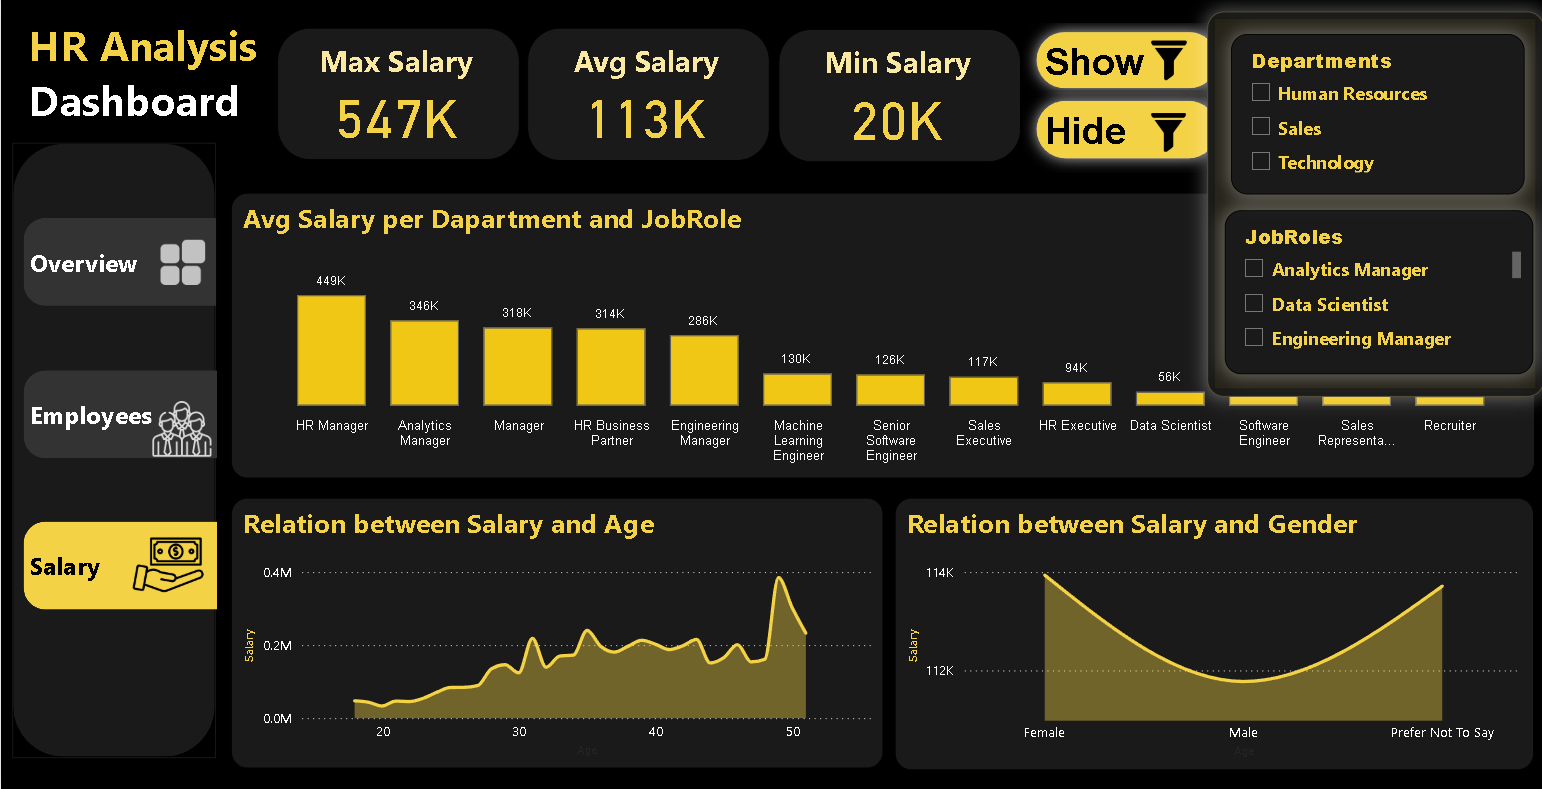

The page's visual inventory and layout, read from the dashboard file:
{"tool":"powerbi","page":{"name":"Salary","canvas":[1400,720],"ordinal":2},"visuals":[{"type":"card","title":"Max Salary","fields":{"Values":["Max(Employee.Salary)"]},"box":[250.4,26.4,219.8,119.7],"z":0},{"type":"textbox","box":[20.6,11,286.8,119.4],"z":1000},{"type":"columnChart","title":"Avg Salary per Dapartment and JobRole","fields":{"Category":["Employee.Department","Employee.JobRole"],"Y":["Avg(Employee.Salary)"]},"box":[208.4,176,1182.9,259.1],"z":2000},{"type":"shape","box":[10,130,185,558.3],"z":3000},{"type":"shape","title":"Overvie","box":[20,198.3,175,80],"z":4000},{"type":"shape","title":"Overvie","box":[20,336.3,175.7,80],"z":5000},{"type":"shape","title":"Overvie","box":[20,474.3,175.7,80],"z":6000},{"type":"image","box":[121.3,358,86,63.3],"z":7000},{"type":"lineChart","title":"Relation between Salary and Age","fields":{"Y":["Avg(Employee.Salary)"],"Category":["Employee.Age"]},"box":[209.1,452.1,592,245.7],"z":8000},{"type":"image","box":[133.7,210.5,61.6,55.8],"z":9000},{"type":"image","box":[109.3,473.3,84.9,81.4],"z":10000},{"type":"shape","box":[926.2,17.1,190,77],"z":13000},{"type":"image","box":[1024.3,33.3,70.8,45.9],"z":14000},{"type":"shape","box":[926.2,79.2,190,78.2],"z":15000},{"type":"image","box":[1024.3,99.1,70.8,44.7],"z":16000},{"type":"card","title":"Min Salary","fields":{"Values":["Min(Employee.Salary)"]},"box":[705.1,27.3,219.7,120.4],"z":17000},{"type":"card","title":"Avg Salary","fields":{"Values":["Avg(Employee.Salary)"]},"box":[477.8,26.1,219.7,120.4],"z":18000},{"type":"lineChart","title":"Relation between Salary and Gender","fields":{"Y":["Avg(Employee.Salary)"],"Category":["Employee.Gender"]},"box":[810.5,452.1,579.7,247.1],"z":19000}]}

Visuals, with their boxes in screenshot pixels (x1, y1, x2, y2), scaled from the page's 1400x720 canvas onto the 1542x789 screenshot:
"Max Salary" card: {"left": 276, "top": 29, "right": 518, "bottom": 160}
textbox: {"left": 23, "top": 12, "right": 339, "bottom": 143}
"Avg Salary per Dapartment and JobRole" columnChart: {"left": 230, "top": 193, "right": 1532, "bottom": 477}
shape: {"left": 11, "top": 142, "right": 215, "bottom": 754}
"Overvie" shape: {"left": 22, "top": 217, "right": 215, "bottom": 305}
"Overvie" shape: {"left": 22, "top": 369, "right": 216, "bottom": 456}
"Overvie" shape: {"left": 22, "top": 520, "right": 216, "bottom": 607}
image: {"left": 134, "top": 392, "right": 228, "bottom": 462}
"Relation between Salary and Age" lineChart: {"left": 230, "top": 495, "right": 882, "bottom": 765}
image: {"left": 147, "top": 231, "right": 215, "bottom": 292}
image: {"left": 120, "top": 519, "right": 214, "bottom": 608}
shape: {"left": 1020, "top": 19, "right": 1229, "bottom": 103}
image: {"left": 1128, "top": 36, "right": 1206, "bottom": 87}
shape: {"left": 1020, "top": 87, "right": 1229, "bottom": 172}
image: {"left": 1128, "top": 109, "right": 1206, "bottom": 158}
"Min Salary" card: {"left": 777, "top": 30, "right": 1019, "bottom": 162}
"Avg Salary" card: {"left": 526, "top": 29, "right": 768, "bottom": 161}
"Relation between Salary and Gender" lineChart: {"left": 893, "top": 495, "right": 1531, "bottom": 766}
